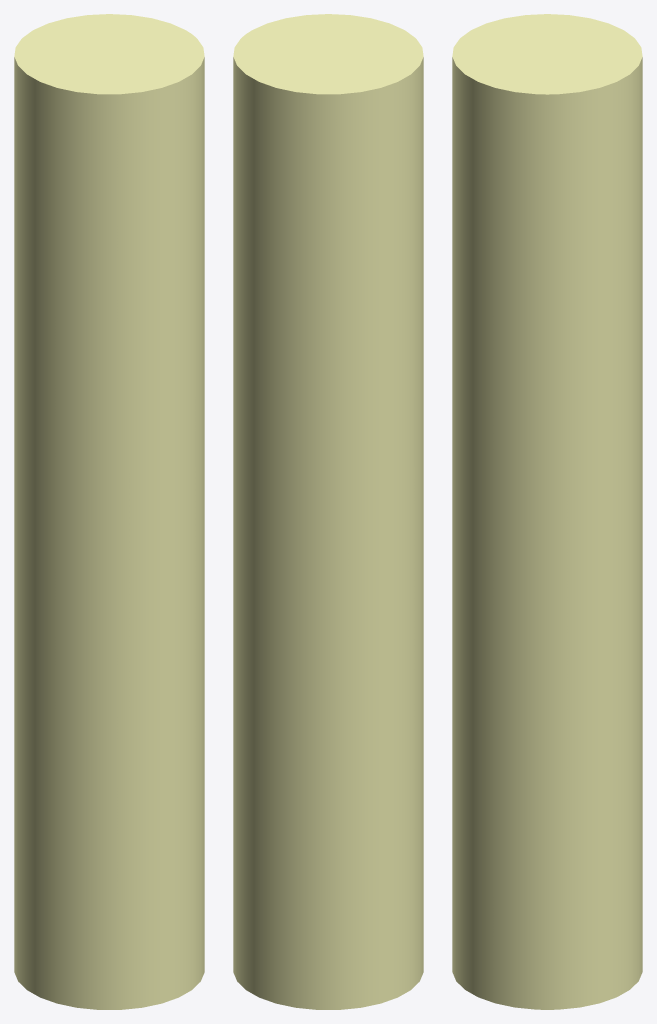
3 renders of one model, left to right at view 1: azimuth 30°, elevation 25°; view 2: azimuth 150°, elevation 25°; view 3: azimuth 270°, elevation 25°, orthographic.
Parts seen in each view (by area): view 1: root; view 2: root; view 3: root.
Part boxes in pixels (bbox=[...]): root: bbox=[14, 14, 204, 1009]; root: bbox=[233, 14, 423, 1009]; root: bbox=[452, 14, 642, 1009].
Size of the model in its own units: 0.01 by 0.053 by 0.00998.
